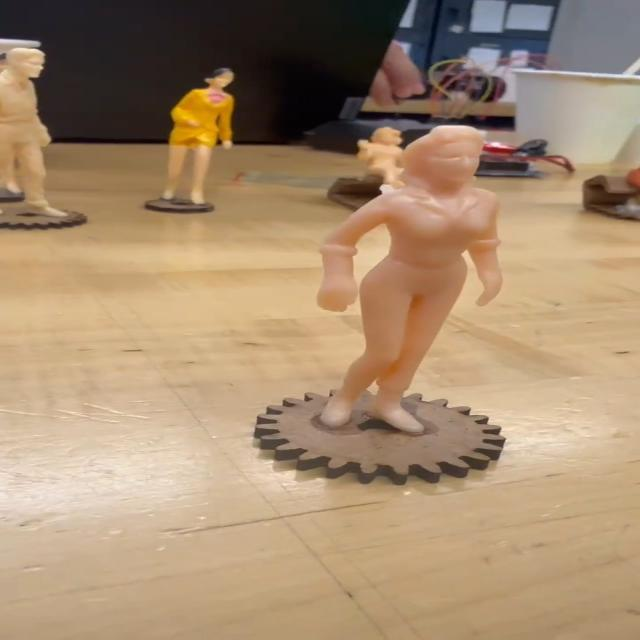Unauthorized: (319, 121, 518, 425)
